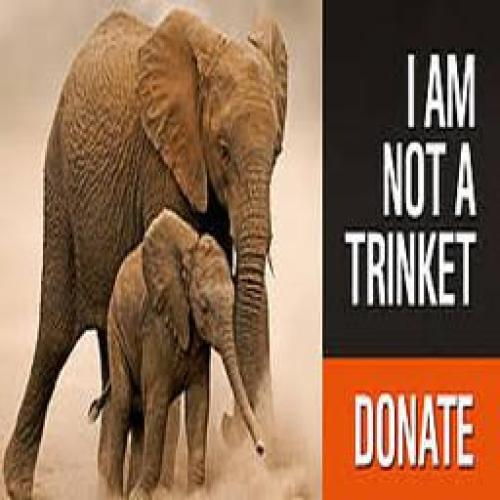african_elephant-endangered: (0, 5, 289, 500), (85, 209, 265, 495)
